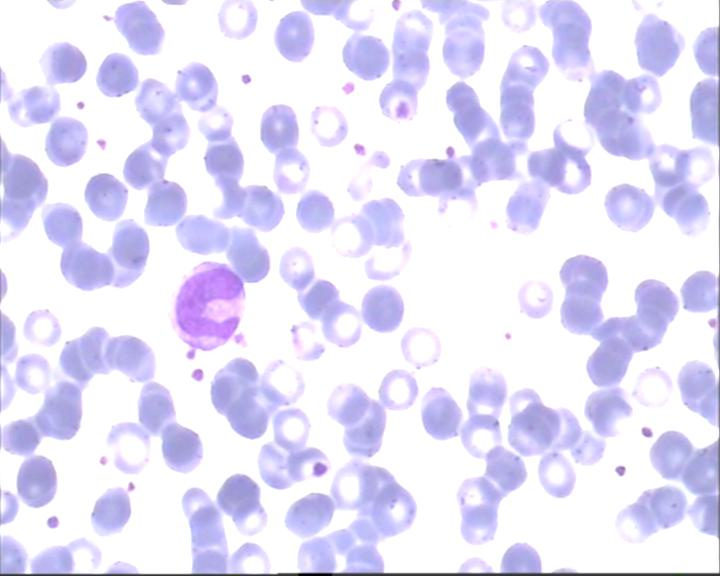mono: (160, 256, 247, 352)
